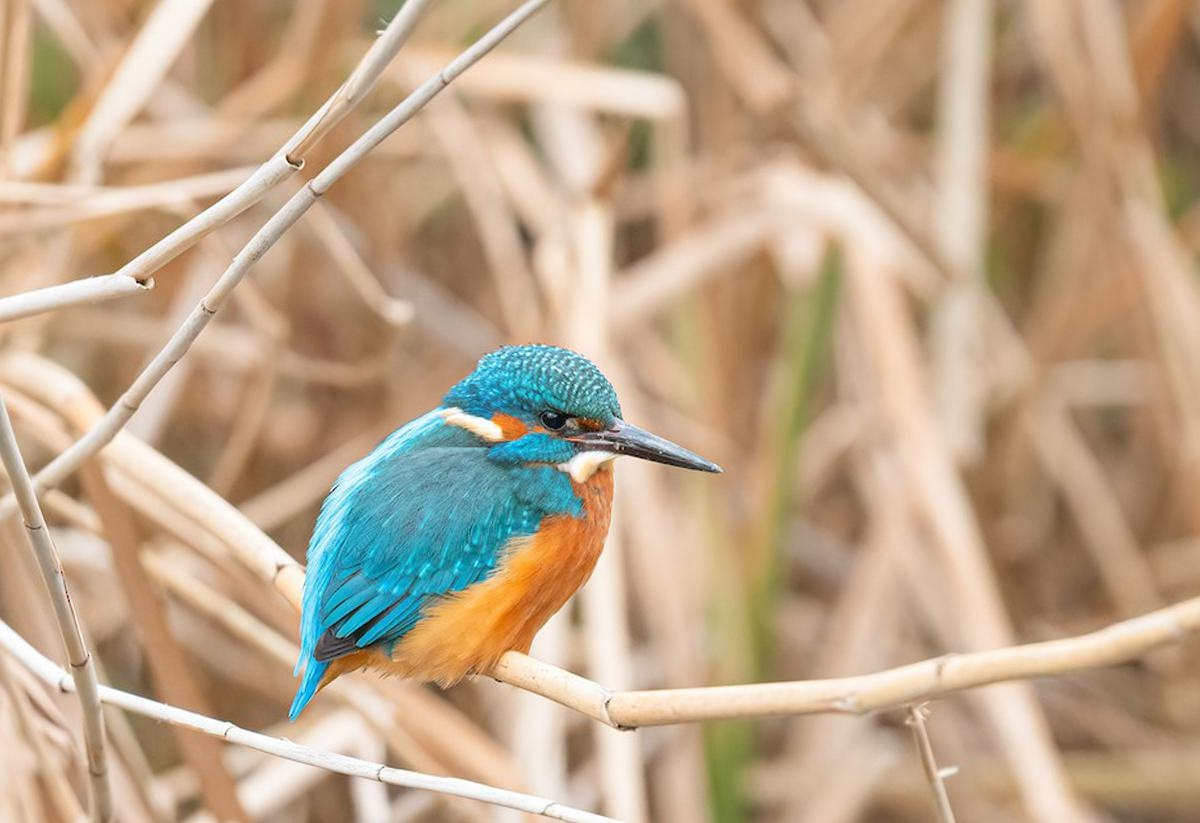kingfisher: (249, 339, 746, 736)
